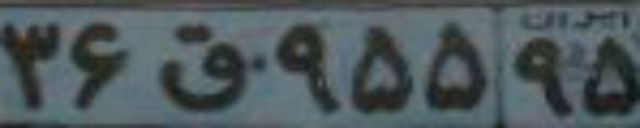3: (1, 20, 60, 109)
5: (348, 26, 419, 112), (426, 24, 483, 112), (583, 35, 638, 114)
6: (68, 21, 127, 108)
9: (274, 23, 340, 112), (513, 36, 571, 113)
ghaf: (151, 25, 253, 111)
